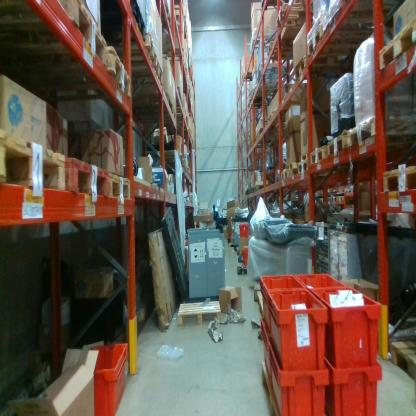pallet: (228, 241, 318, 414), (1, 3, 110, 74), (54, 47, 135, 100), (1, 132, 71, 186), (306, 22, 371, 62), (109, 92, 179, 126), (376, 22, 416, 77), (349, 116, 415, 149), (66, 154, 112, 198), (125, 39, 164, 90), (102, 1, 154, 39), (175, 294, 223, 332), (294, 56, 353, 85), (378, 160, 415, 202), (390, 332, 415, 379), (270, 3, 312, 30), (266, 37, 307, 62), (327, 128, 353, 163), (246, 32, 280, 58), (111, 169, 133, 203), (264, 110, 291, 132), (246, 95, 277, 111), (310, 144, 328, 169), (250, 83, 279, 96), (255, 129, 285, 141), (281, 167, 301, 181), (237, 264, 255, 279), (297, 156, 311, 175), (252, 177, 273, 187), (258, 290, 265, 317), (238, 71, 253, 83), (299, 150, 310, 163), (286, 160, 299, 171), (337, 193, 348, 203), (315, 195, 324, 207), (331, 195, 339, 205), (254, 185, 263, 193), (235, 246, 241, 258), (250, 289, 258, 296)
small_load_carrier: (318, 281, 386, 368), (269, 286, 331, 371), (75, 333, 134, 413), (270, 347, 333, 414), (329, 348, 391, 414), (259, 265, 310, 338), (295, 266, 348, 304), (259, 329, 273, 385), (243, 245, 257, 269), (237, 221, 252, 238)
stillage: (315, 220, 338, 280)
